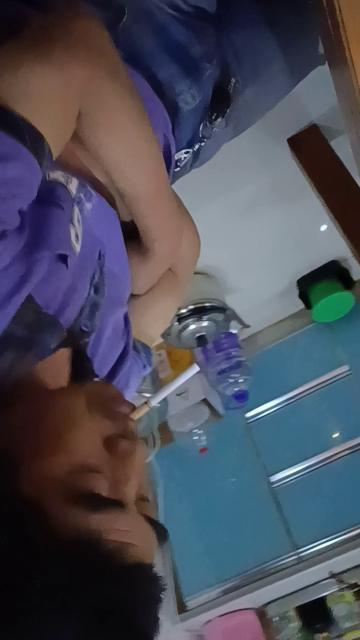Smoking: (130, 363, 200, 421)
